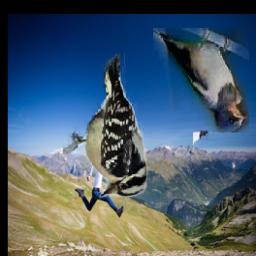Crow: (194, 131, 218, 202)
Swallow: (154, 29, 250, 133)
Woodpecker: (63, 54, 148, 199)
